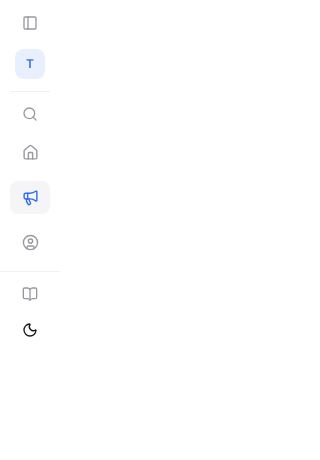
Scenario: collapsed AppSidebar User flyout (#823) › closes the User flyout when What's new is selected
Press the mouse on the 4th button at (30, 242), box [10,226,50,259]
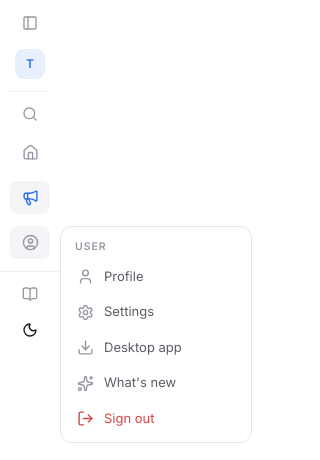
Check: the menu is shown, box [60,226,252,443]
Click the menu item "What's new". click: click(156, 383)
box: [67,365,245,401]
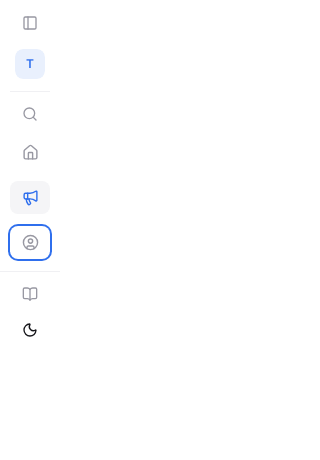
Check: the menu is gone
